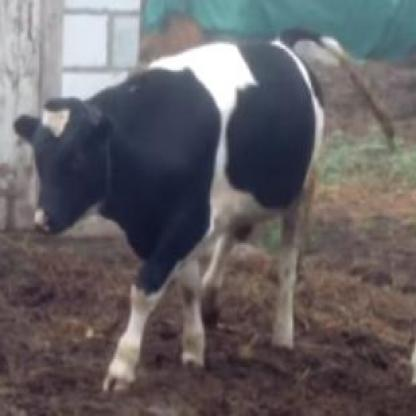cow: (15, 40, 322, 392)
